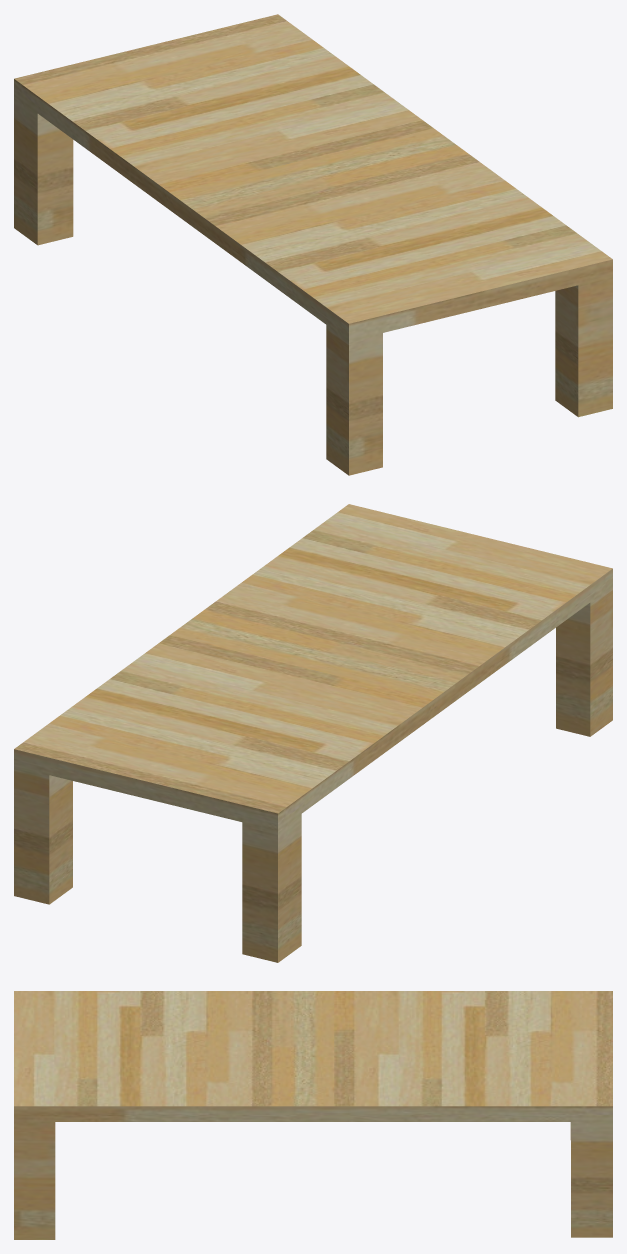
File: table.gltf
3 views of the same model, one above another, from view 1: azimuth 30°, elevation 25°; view 2: azimuth 150°, elevation 25°; view 3: azimuth 270°, elevation 25° (orthographic). The views are drawn at different scales.
Visible parts, largest first — view 1: 组件#5; view 2: 组件#5; view 3: 组件#5.
Boxes of the visible parts, left/top/right/bottom form: 组件#5: left=14, top=14, right=612, bottom=475; 组件#5: left=14, top=504, right=612, bottom=962; 组件#5: left=14, top=991, right=612, bottom=1239.
Bounding box in the file's own units: 1.11 × 0.61 × 2.44.
2 materials, 1 textured.
